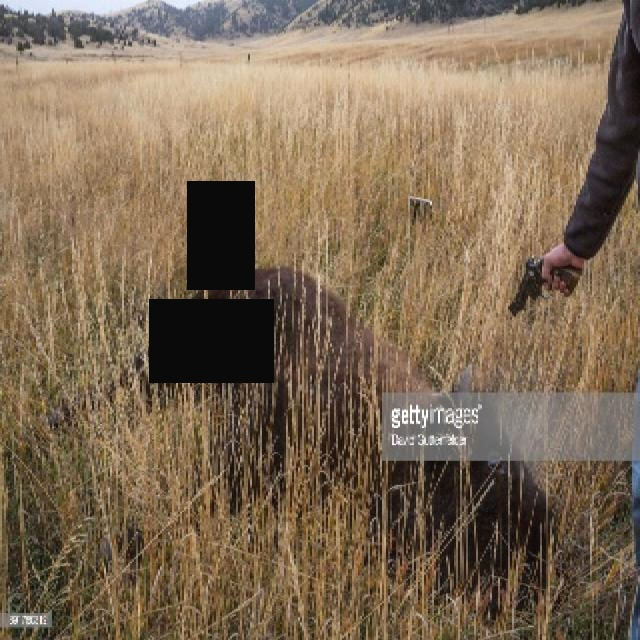gun: (503, 247, 582, 319)
